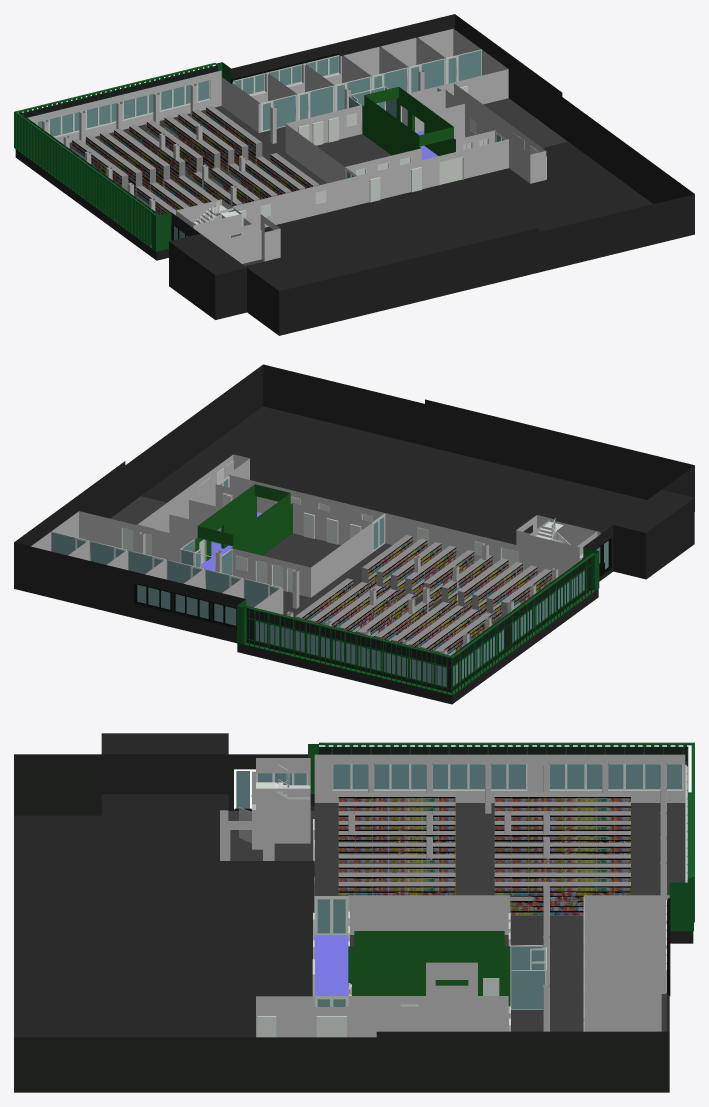
The picture shows the model from 3 angles, top to bottom: view 1: azimuth 30°, elevation 25°; view 2: azimuth 150°, elevation 25°; view 3: azimuth 270°, elevation 25°; orthographic projection. The views are drawn at different scales.
Visible parts, largest first — view 1: LEVELS1_FACADE_86, LEVELS1_WALL_00, LEVELS1_GALSS_01, LEVELS1_FLOOR_CEILING_00, LEVELS1_WALL_01, LEVELS1_SHELVE_04, LEVELS1_FACADE_88, LEVELS1_SHELVE_03, LEVELS1_SHELVE_16, LEVELS1_SHELVE_07, LEVELS1_SHELVE_02, LEVELS1_SHELVE_01 (+12 smaller); view 2: LEVELS1_FACADE_86, LEVELS1_WALL_00, LEVELS1_GALSS_01, LEVELS1_FLOOR_CEILING_00, LEVELS1_WALL_01, LEVELS1_FACADE_88, LEVELS1_SHELVE_12, LEVELS1_SHELVE_11, LEVELS1_SHELVE_08, LEVELS1_SHELVE_04, LEVELS1_SHELVE_17, LEVELS1_SHELVE_09 (+14 smaller); view 3: LEVELS1_FACADE_86, LEVELS1_WALL_00, LEVELS1_FLOOR_CEILING_00, LEVELS1_GALSS_01, LEVELS1_WALL_01, LEVELS1_SHELVE_07, LEVELS1_FACADE_88, LEVELS1_SHELVE_03, LEVELS1_SHELVE_15, LEVELS1_SHELVE_16, LEVELS1_SHELVE_11, LEVELS1_SHELVE_02 (+16 smaller).
Boxes of the visible parts, x1,y1,x2,y2 form: LEVELS1_FACADE_86: (14,14,694,335); LEVELS1_WALL_00: (27,28,546,227); LEVELS1_GALSS_01: (35,50,503,239); LEVELS1_FLOOR_CEILING_00: (69,98,567,266); LEVELS1_WALL_01: (173,199,280,263); LEVELS1_SHELVE_04: (164,116,220,172); LEVELS1_FACADE_88: (14,63,216,213); LEVELS1_SHELVE_03: (146,120,202,177); LEVELS1_SHELVE_16: (129,124,185,182); LEVELS1_SHELVE_07: (206,106,262,164); LEVELS1_SHELVE_02: (114,128,169,187); LEVELS1_SHELVE_01: (100,132,155,190); LEVELS1_FACADE_86: (14,364,694,704); LEVELS1_WALL_00: (31,454,579,654); LEVELS1_GALSS_01: (51,479,608,686); LEVELS1_FLOOR_CEILING_00: (110,496,501,624); LEVELS1_WALL_01: (516,515,600,560); LEVELS1_FACADE_88: (243,553,595,658); LEVELS1_SHELVE_12: (405,545,456,598); LEVELS1_SHELVE_11: (423,550,474,603); LEVELS1_SHELVE_08: (486,565,537,621); LEVELS1_SHELVE_04: (338,589,396,632); LEVELS1_SHELVE_17: (441,555,492,609); LEVELS1_SHELVE_09: (472,562,523,617); LEVELS1_FACADE_86: (14,733,693,1092); LEVELS1_WALL_00: (256,754,687,1037); LEVELS1_FLOOR_CEILING_00: (228,803,685,1031); LEVELS1_GALSS_01: (236,764,681,1009); LEVELS1_WALL_01: (220,758,310,860); LEVELS1_SHELVE_07: (494,882,630,915); LEVELS1_FACADE_88: (319,742,694,877); LEVELS1_SHELVE_03: (494,842,630,854); LEVELS1_SHELVE_15: (338,882,455,895); LEVELS1_SHELVE_16: (494,831,630,842); LEVELS1_SHELVE_11: (338,842,455,854); LEVELS1_SHELVE_02: (494,820,630,830).
Size of the model in its own units: 43.43 by 5.15 by 41.91.
